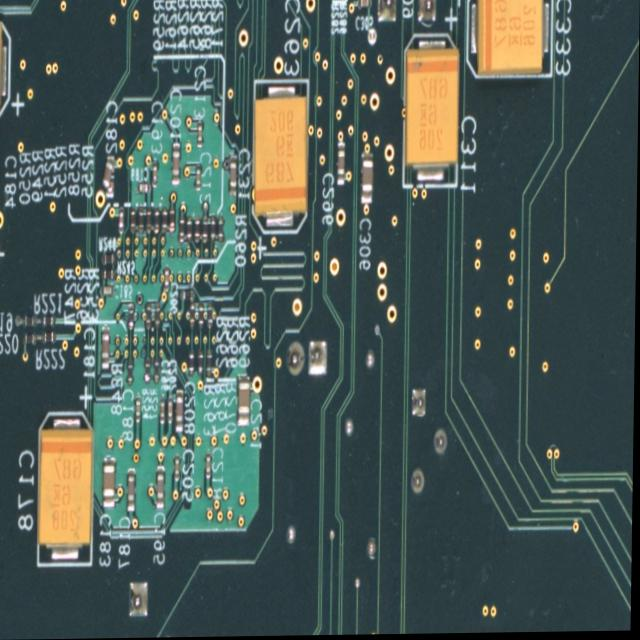capacitor: (104, 456, 118, 507), (362, 153, 375, 205), (239, 374, 252, 426), (103, 156, 115, 197), (230, 153, 240, 196), (129, 467, 138, 513), (102, 325, 111, 369), (338, 143, 347, 186), (177, 389, 186, 432), (158, 466, 167, 508), (173, 142, 181, 186), (119, 205, 126, 233), (198, 120, 205, 147), (137, 391, 143, 422), (102, 284, 116, 297), (161, 395, 167, 423), (169, 395, 175, 423), (176, 453, 182, 481), (137, 182, 152, 193), (153, 160, 159, 187), (207, 451, 213, 477), (166, 265, 172, 291), (197, 163, 202, 189)
component text: (265, 105, 298, 189), (51, 454, 86, 532), (416, 74, 450, 153)
electrolytic capacitor: (253, 78, 311, 236), (404, 34, 462, 190), (39, 411, 96, 567), (0, 19, 13, 122)
pins: (404, 383, 452, 502), (284, 335, 335, 379), (376, 0, 440, 27), (129, 577, 154, 618)
resistor: (170, 206, 177, 234), (43, 330, 58, 343), (24, 313, 39, 326), (139, 205, 146, 232), (203, 216, 210, 243), (128, 358, 135, 385), (181, 289, 197, 300), (219, 214, 225, 243), (147, 206, 153, 234), (163, 206, 169, 234), (146, 355, 152, 383), (147, 301, 153, 329), (102, 253, 117, 264), (155, 207, 161, 234), (195, 215, 201, 242), (212, 214, 218, 241), (209, 301, 215, 328), (156, 357, 162, 384), (129, 303, 135, 330), (131, 208, 137, 234), (180, 216, 186, 242), (190, 350, 196, 376), (208, 349, 214, 375), (156, 301, 162, 327), (43, 315, 57, 326), (25, 332, 39, 343), (102, 269, 117, 279), (200, 303, 206, 328), (199, 350, 205, 375), (188, 216, 194, 240), (191, 304, 197, 328)
